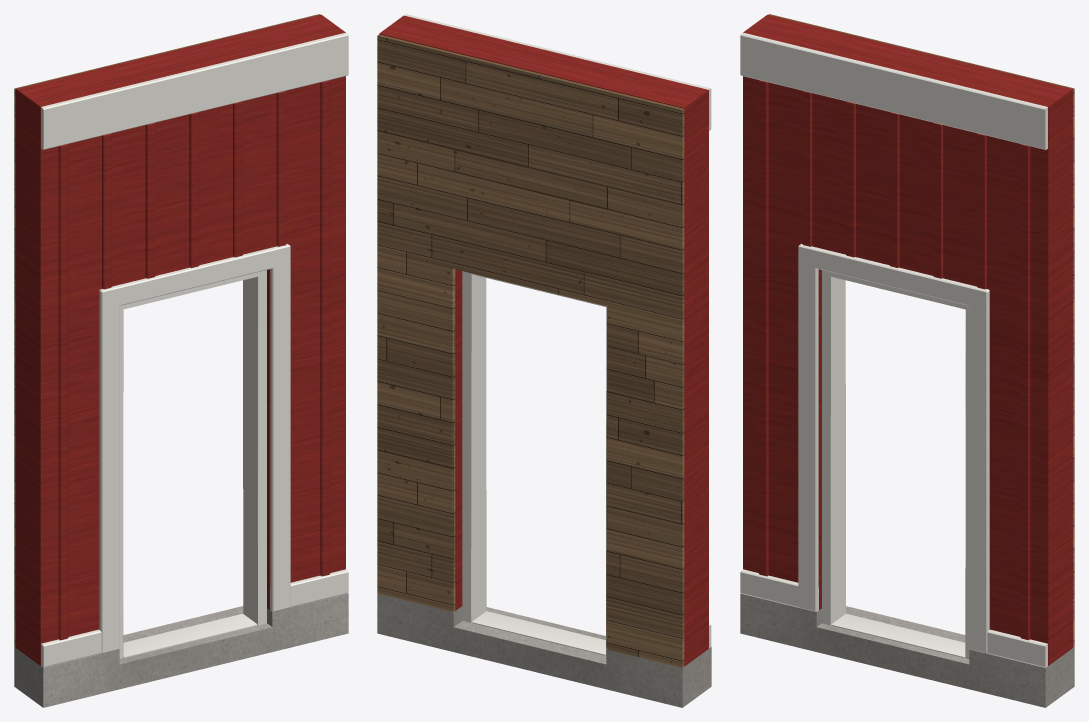
The model's file is barn_wall_door.glb.
3 renders of one model, left to right at view 1: azimuth 30°, elevation 25°; view 2: azimuth 150°, elevation 25°; view 3: azimuth 330°, elevation 25°, orthographic.
Parts seen in each view (by area): view 1: barn_wall_door_barn, barn_wall_door_trim, barn_wall_door_concrete, barn_wall_door_frame, barn_wall_door_planks; view 2: barn_wall_door_planks, barn_wall_door_barn, barn_wall_door_concrete, barn_wall_door_frame, barn_wall_door_trim; view 3: barn_wall_door_barn, barn_wall_door_trim, barn_wall_door_concrete, barn_wall_door_frame, barn_wall_door_planks.
Part boxes in pixels (<box>): barn_wall_door_barn: <box>16,14,345,665</box>; barn_wall_door_trim: <box>41,32,348,667</box>; barn_wall_door_concrete: <box>14,593,348,707</box>; barn_wall_door_frame: <box>119,270,266,658</box>; barn_wall_door_planks: <box>14,14,319,647</box>; barn_wall_door_planks: <box>377,34,684,667</box>; barn_wall_door_barn: <box>379,15,708,666</box>; barn_wall_door_concrete: <box>377,593,711,707</box>; barn_wall_door_frame: <box>462,271,606,655</box>; barn_wall_door_trim: <box>404,14,711,648</box>; barn_wall_door_barn: <box>743,14,1072,665</box>; barn_wall_door_trim: <box>740,32,1047,667</box>; barn_wall_door_concrete: <box>740,593,1074,707</box>; barn_wall_door_frame: <box>822,270,969,658</box>; barn_wall_door_planks: <box>769,14,1074,647</box>.
Size of the model in its own units: 2 by 3.75 by 0.335.
Materials: 5 (3 with a texture image).
